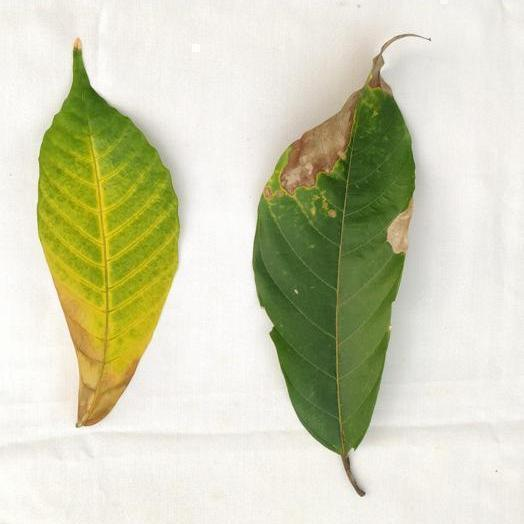Iron: (38, 38, 177, 426)
Potassium: (253, 34, 417, 495)
